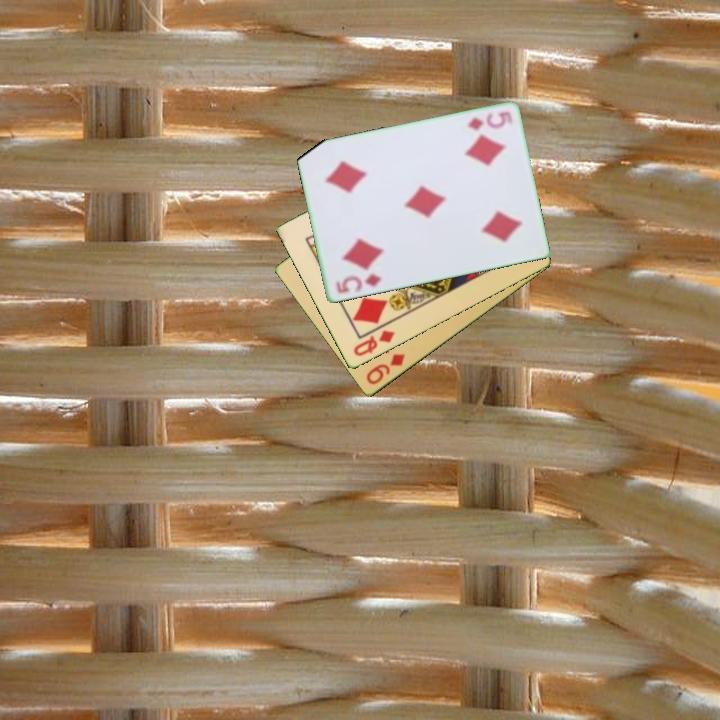5d: (332, 270, 384, 296), (464, 108, 515, 134)
9d: (362, 350, 408, 388)
Qd: (350, 327, 398, 360)
